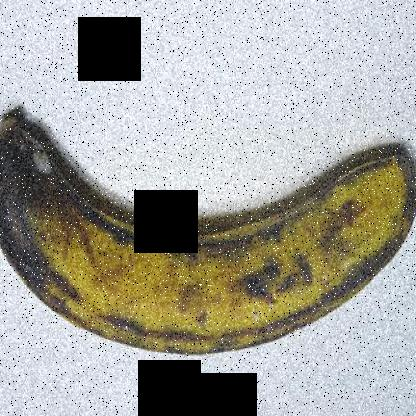overripe: (0, 90, 415, 379)
rotten: (0, 127, 110, 293)
